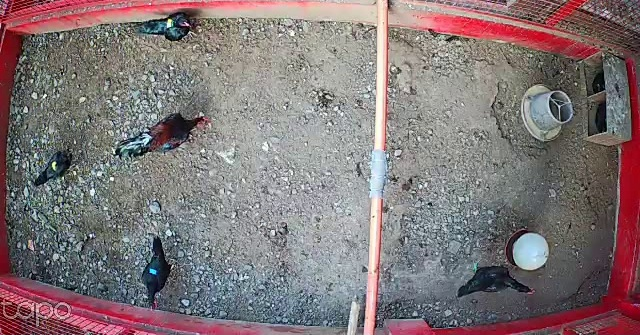Chicken: (451, 258, 536, 305), (139, 232, 183, 313), (140, 13, 198, 46), (34, 145, 78, 187)
Rooster: (118, 105, 213, 164)
Saddle_Color_Blue: (149, 268, 160, 275)
Saddle_Color_Yellow: (51, 162, 58, 171)
Saddle_Color_YellowGreen: (166, 19, 177, 29)
